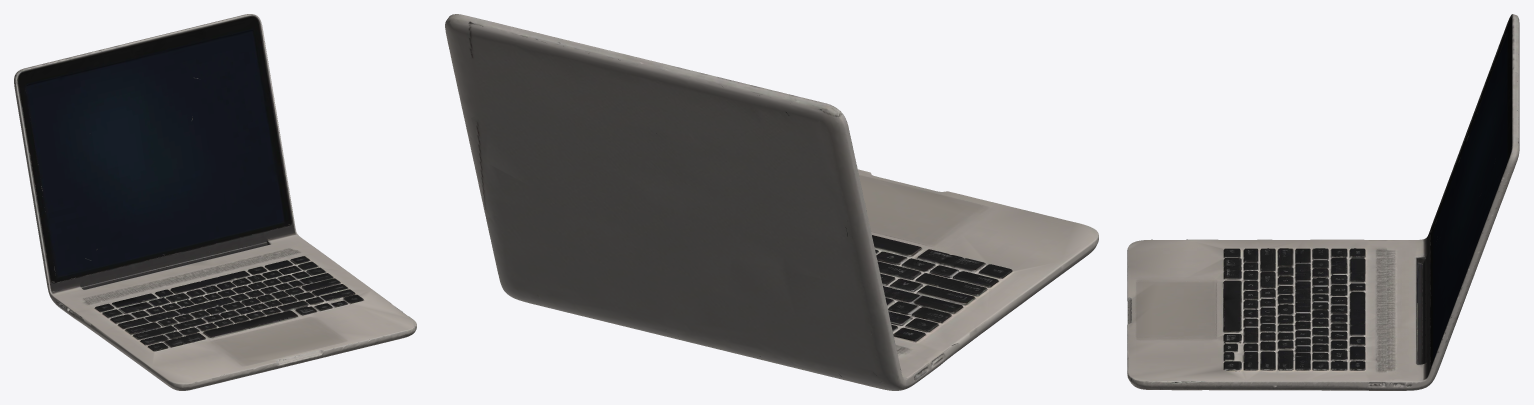
File: laptop.opt.glb
The picture shows the model from 3 angles, left to right: view 1: azimuth 30°, elevation 25°; view 2: azimuth 150°, elevation 25°; view 3: azimuth 270°, elevation 25°; orthographic projection. The views are drawn at different scales.
Parts seen in each view (by area): view 1: Mesh_0; view 2: Mesh_0; view 3: Mesh_0.
Boxes of the visible parts, x1,y1,x2,y2 form: Mesh_0: (14,14,416,390); Mesh_0: (445,14,1098,390); Mesh_0: (1127,14,1519,390).
Bounding box in the file's own units: 1.64 × 1.31 × 1.91.
Materials: 1 (1 with a texture image).
